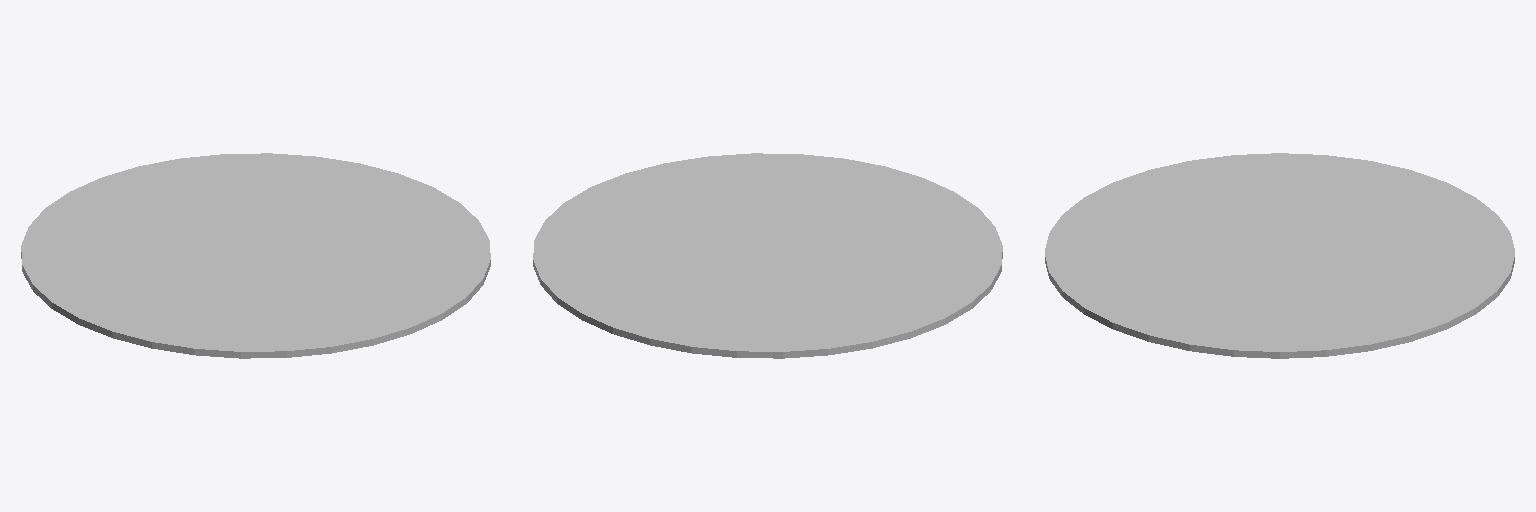
The model's file is Timer_Roof_Puzzle2.obj.
The picture shows the model from 3 angles: view 1: azimuth 30°, elevation 25°; view 2: azimuth 150°, elevation 25°; view 3: azimuth 270°, elevation 25°; orthographic projection.
Visible parts, largest first — view 1: Timer_Roof_Puzzle2; view 2: Timer_Roof_Puzzle2; view 3: Timer_Roof_Puzzle2.
Part boxes in pixels (bbox=[...]): Timer_Roof_Puzzle2: bbox=[21, 153, 490, 358]; Timer_Roof_Puzzle2: bbox=[533, 153, 1002, 358]; Timer_Roof_Puzzle2: bbox=[1045, 153, 1514, 358].
Bounding box in the file's own units: 16 × 0.25 × 16.